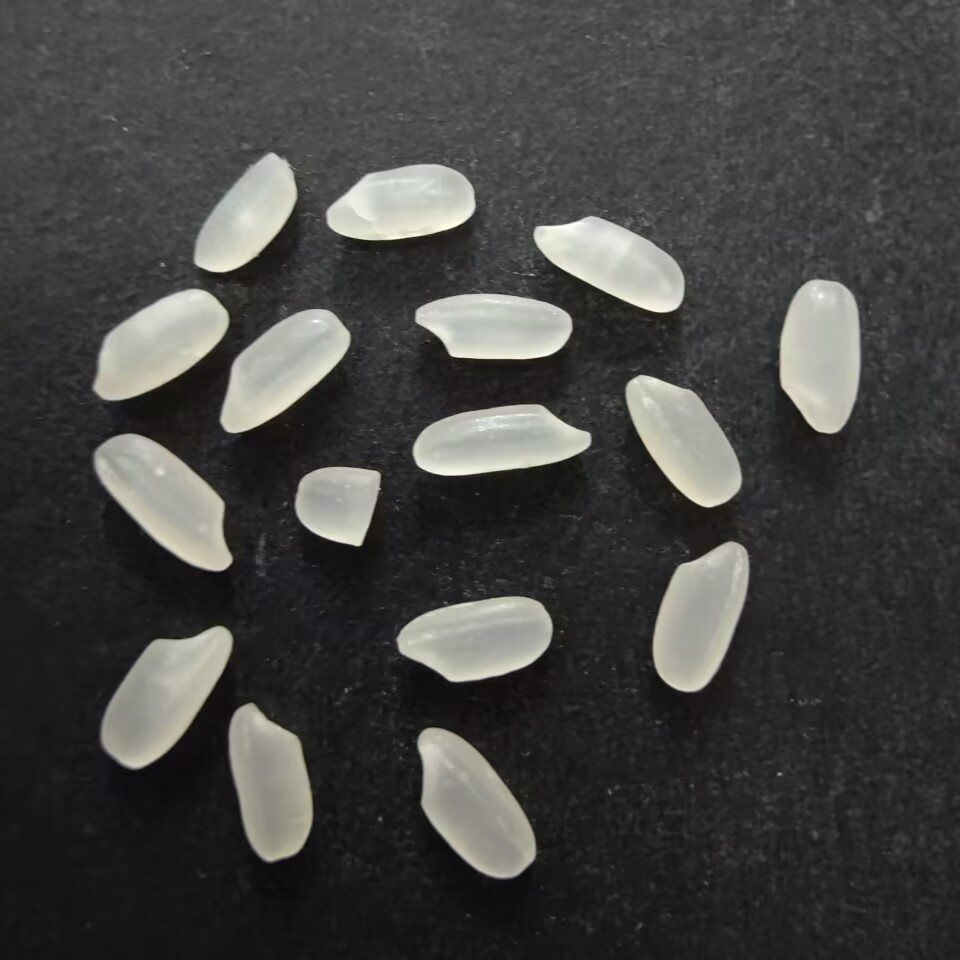broken: (289, 462, 385, 552)
rice: (90, 431, 238, 577), (98, 622, 233, 774), (409, 726, 539, 881), (214, 304, 355, 435), (87, 285, 234, 402), (622, 373, 746, 511), (529, 210, 688, 316), (646, 536, 753, 693), (410, 398, 600, 481), (226, 698, 319, 866), (390, 594, 556, 686), (778, 275, 865, 440), (191, 147, 303, 274), (322, 162, 478, 242), (406, 292, 577, 364)
